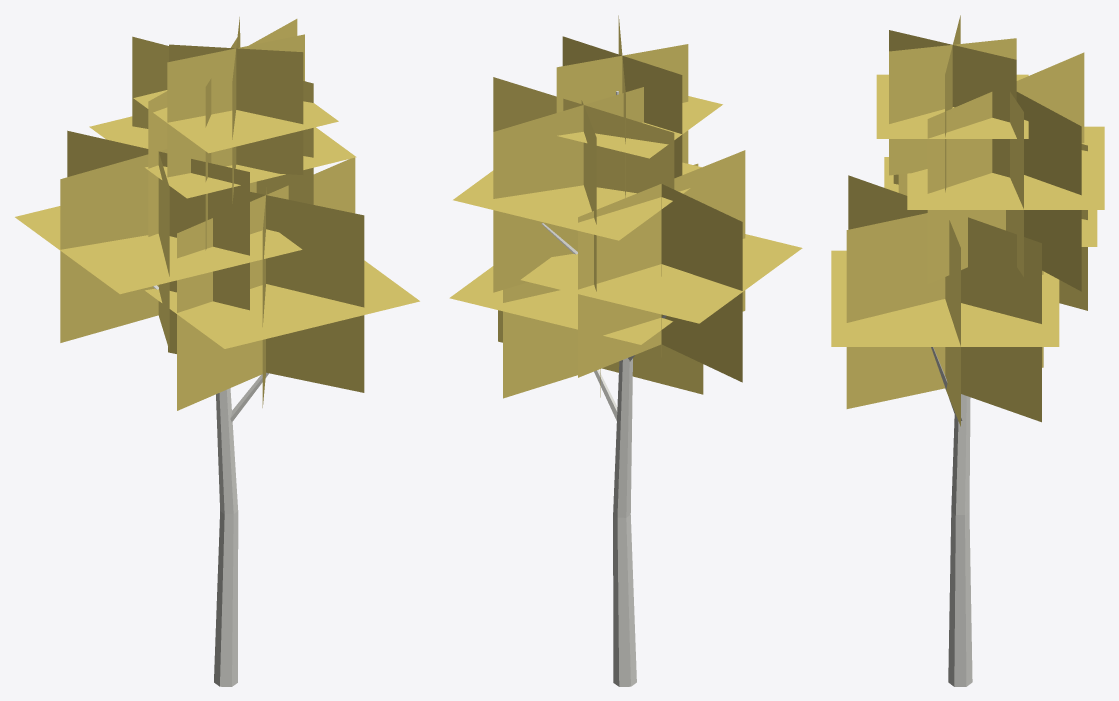
File: tree_birch.glb
3 views of the same model, side by side, from view 1: azimuth 30°, elevation 25°; view 2: azimuth 150°, elevation 25°; view 3: azimuth 270°, elevation 25° (orthographic). The views are drawn at different scales.
Visible parts, largest first — view 1: leaves, tree_birch; view 2: leaves, tree_birch; view 3: leaves, tree_birch.
Part boxes in pixels (bbox=[...]): leaves: bbox=[15, 17, 419, 410]; tree_birch: bbox=[153, 285, 268, 686]; leaves: bbox=[449, 15, 802, 398]; tree_birch: bbox=[541, 91, 666, 686]; leaves: bbox=[831, 15, 1104, 426]; tree_birch: bbox=[931, 347, 972, 686].
Bounding box in the file's own units: 4.2 × 9.46 × 3.6.
